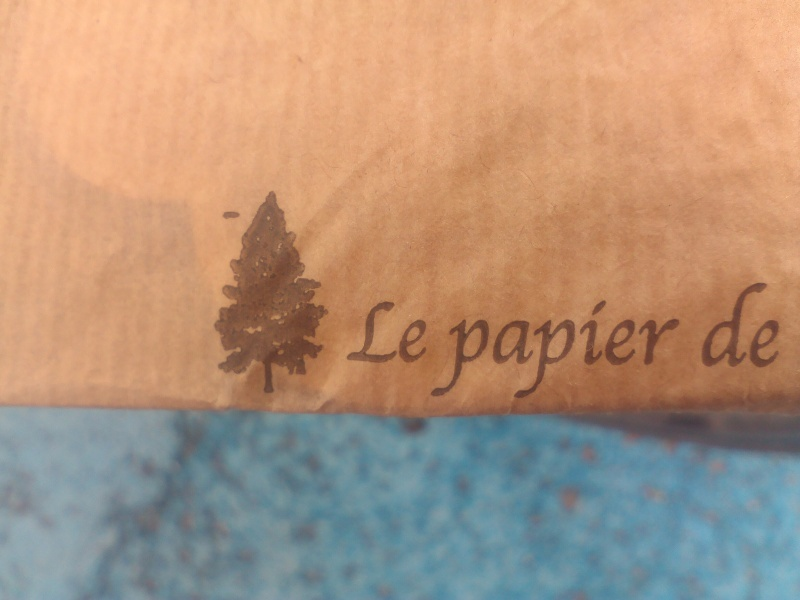text: (449, 301, 464, 402), (465, 301, 480, 402), (481, 301, 496, 402), (497, 301, 512, 402), (513, 301, 528, 402), (529, 301, 544, 402), (545, 301, 560, 402), (561, 301, 576, 402), (577, 301, 592, 402), (593, 301, 608, 402), (609, 301, 624, 402), (625, 301, 640, 402), (641, 301, 656, 402), (657, 301, 672, 402), (705, 282, 720, 370), (721, 282, 736, 370), (737, 282, 752, 370), (753, 282, 768, 370), (769, 282, 781, 370), (438, 301, 448, 402), (353, 301, 368, 365), (369, 301, 384, 365), (385, 301, 400, 365), (401, 301, 416, 365), (673, 301, 681, 402), (417, 301, 429, 365), (345, 301, 352, 365), (701, 282, 704, 370)
